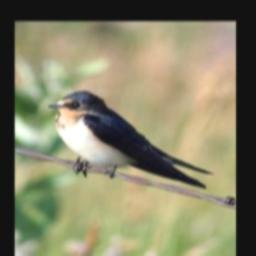Swallow: (46, 88, 214, 193)
